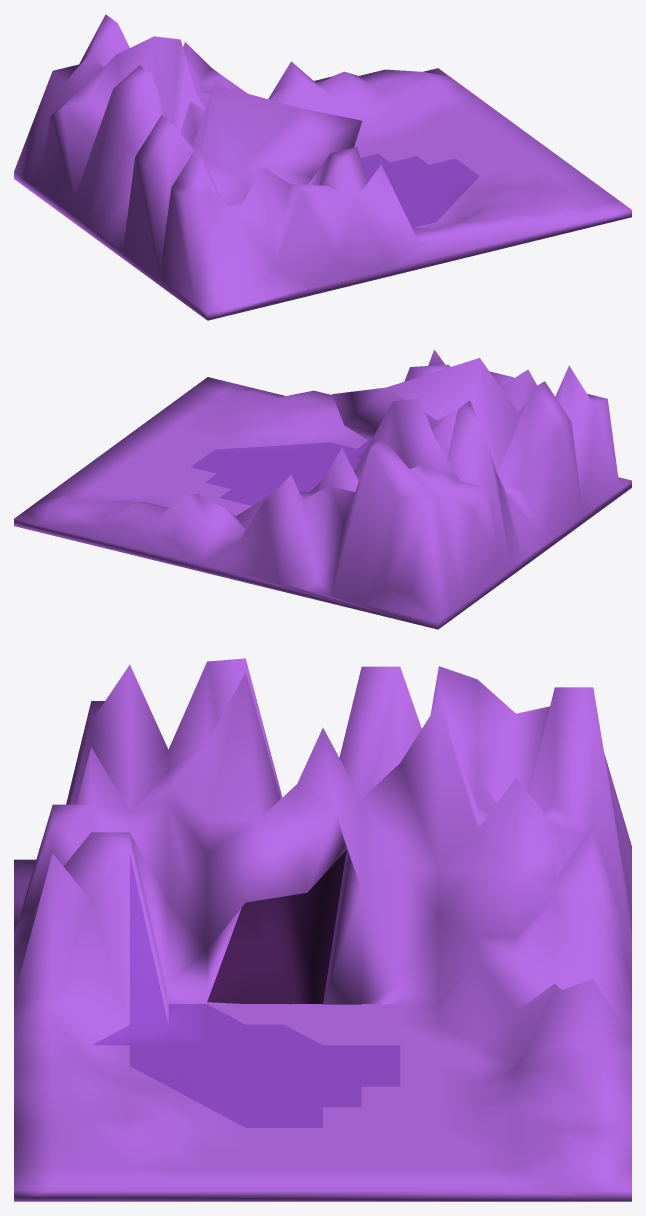
File: Title.fbx
3 renders of one model, top to bottom at view 1: azimuth 30°, elevation 25°; view 2: azimuth 150°, elevation 25°; view 3: azimuth 270°, elevation 25°, orthographic. The views are drawn at different scales.
Visible parts, largest first — view 1: Cube; view 2: Cube; view 3: Cube.
Part boxes in pixels (<box>): Cube: <box>14,14,631,320</box>; Cube: <box>14,349,631,629</box>; Cube: <box>14,658,631,1201</box>.
Bounding box in the file's own units: 45.47 × 17.16 × 35.96.
